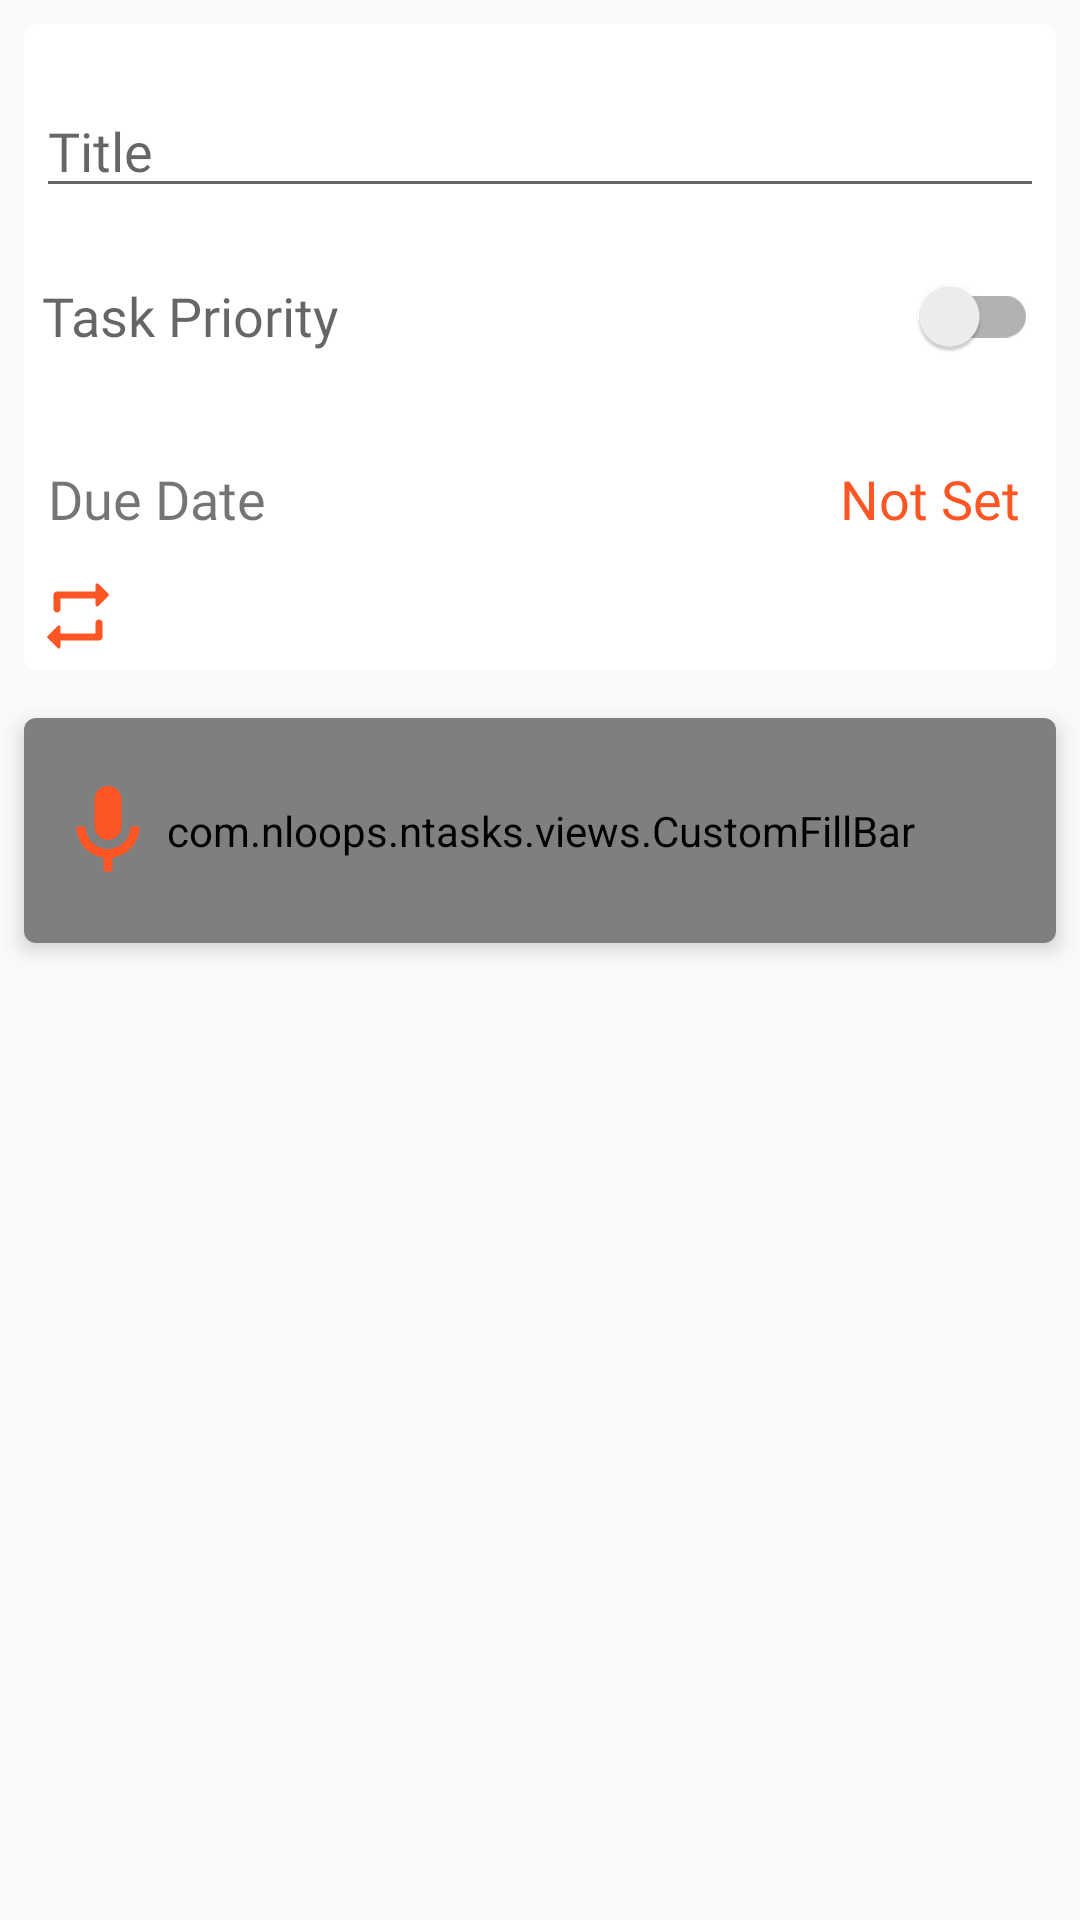

Named icons in this screenshot (1080 x 1920) and their bounding boxes, (x1, y1, x2, y2):
repeat: (47, 583, 109, 649)
